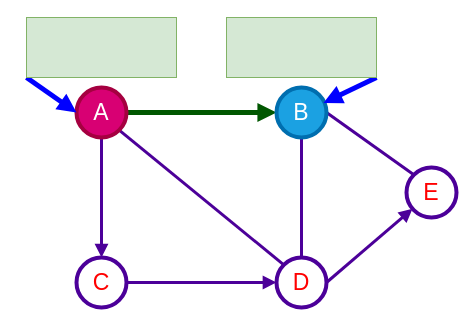
The diagram is 476 pixels wide and 327 high, and some of its shapes have lost their labels. The box of each missing label's shape, as (x1, y1, x2, y2) in pixels:
Destination: (226, 16, 376, 78)
Origin: (26, 16, 176, 78)
